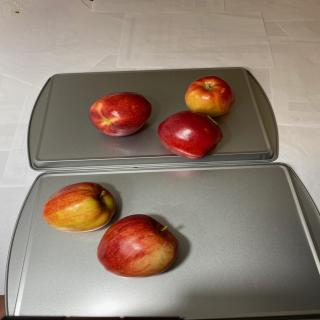Apple: (97, 214, 178, 278), (41, 182, 116, 232), (158, 110, 224, 159), (88, 92, 152, 136), (184, 76, 235, 117)
